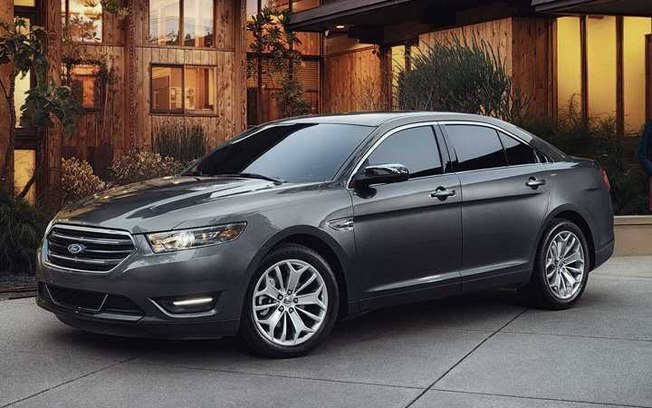Carro: (31, 107, 619, 362)
